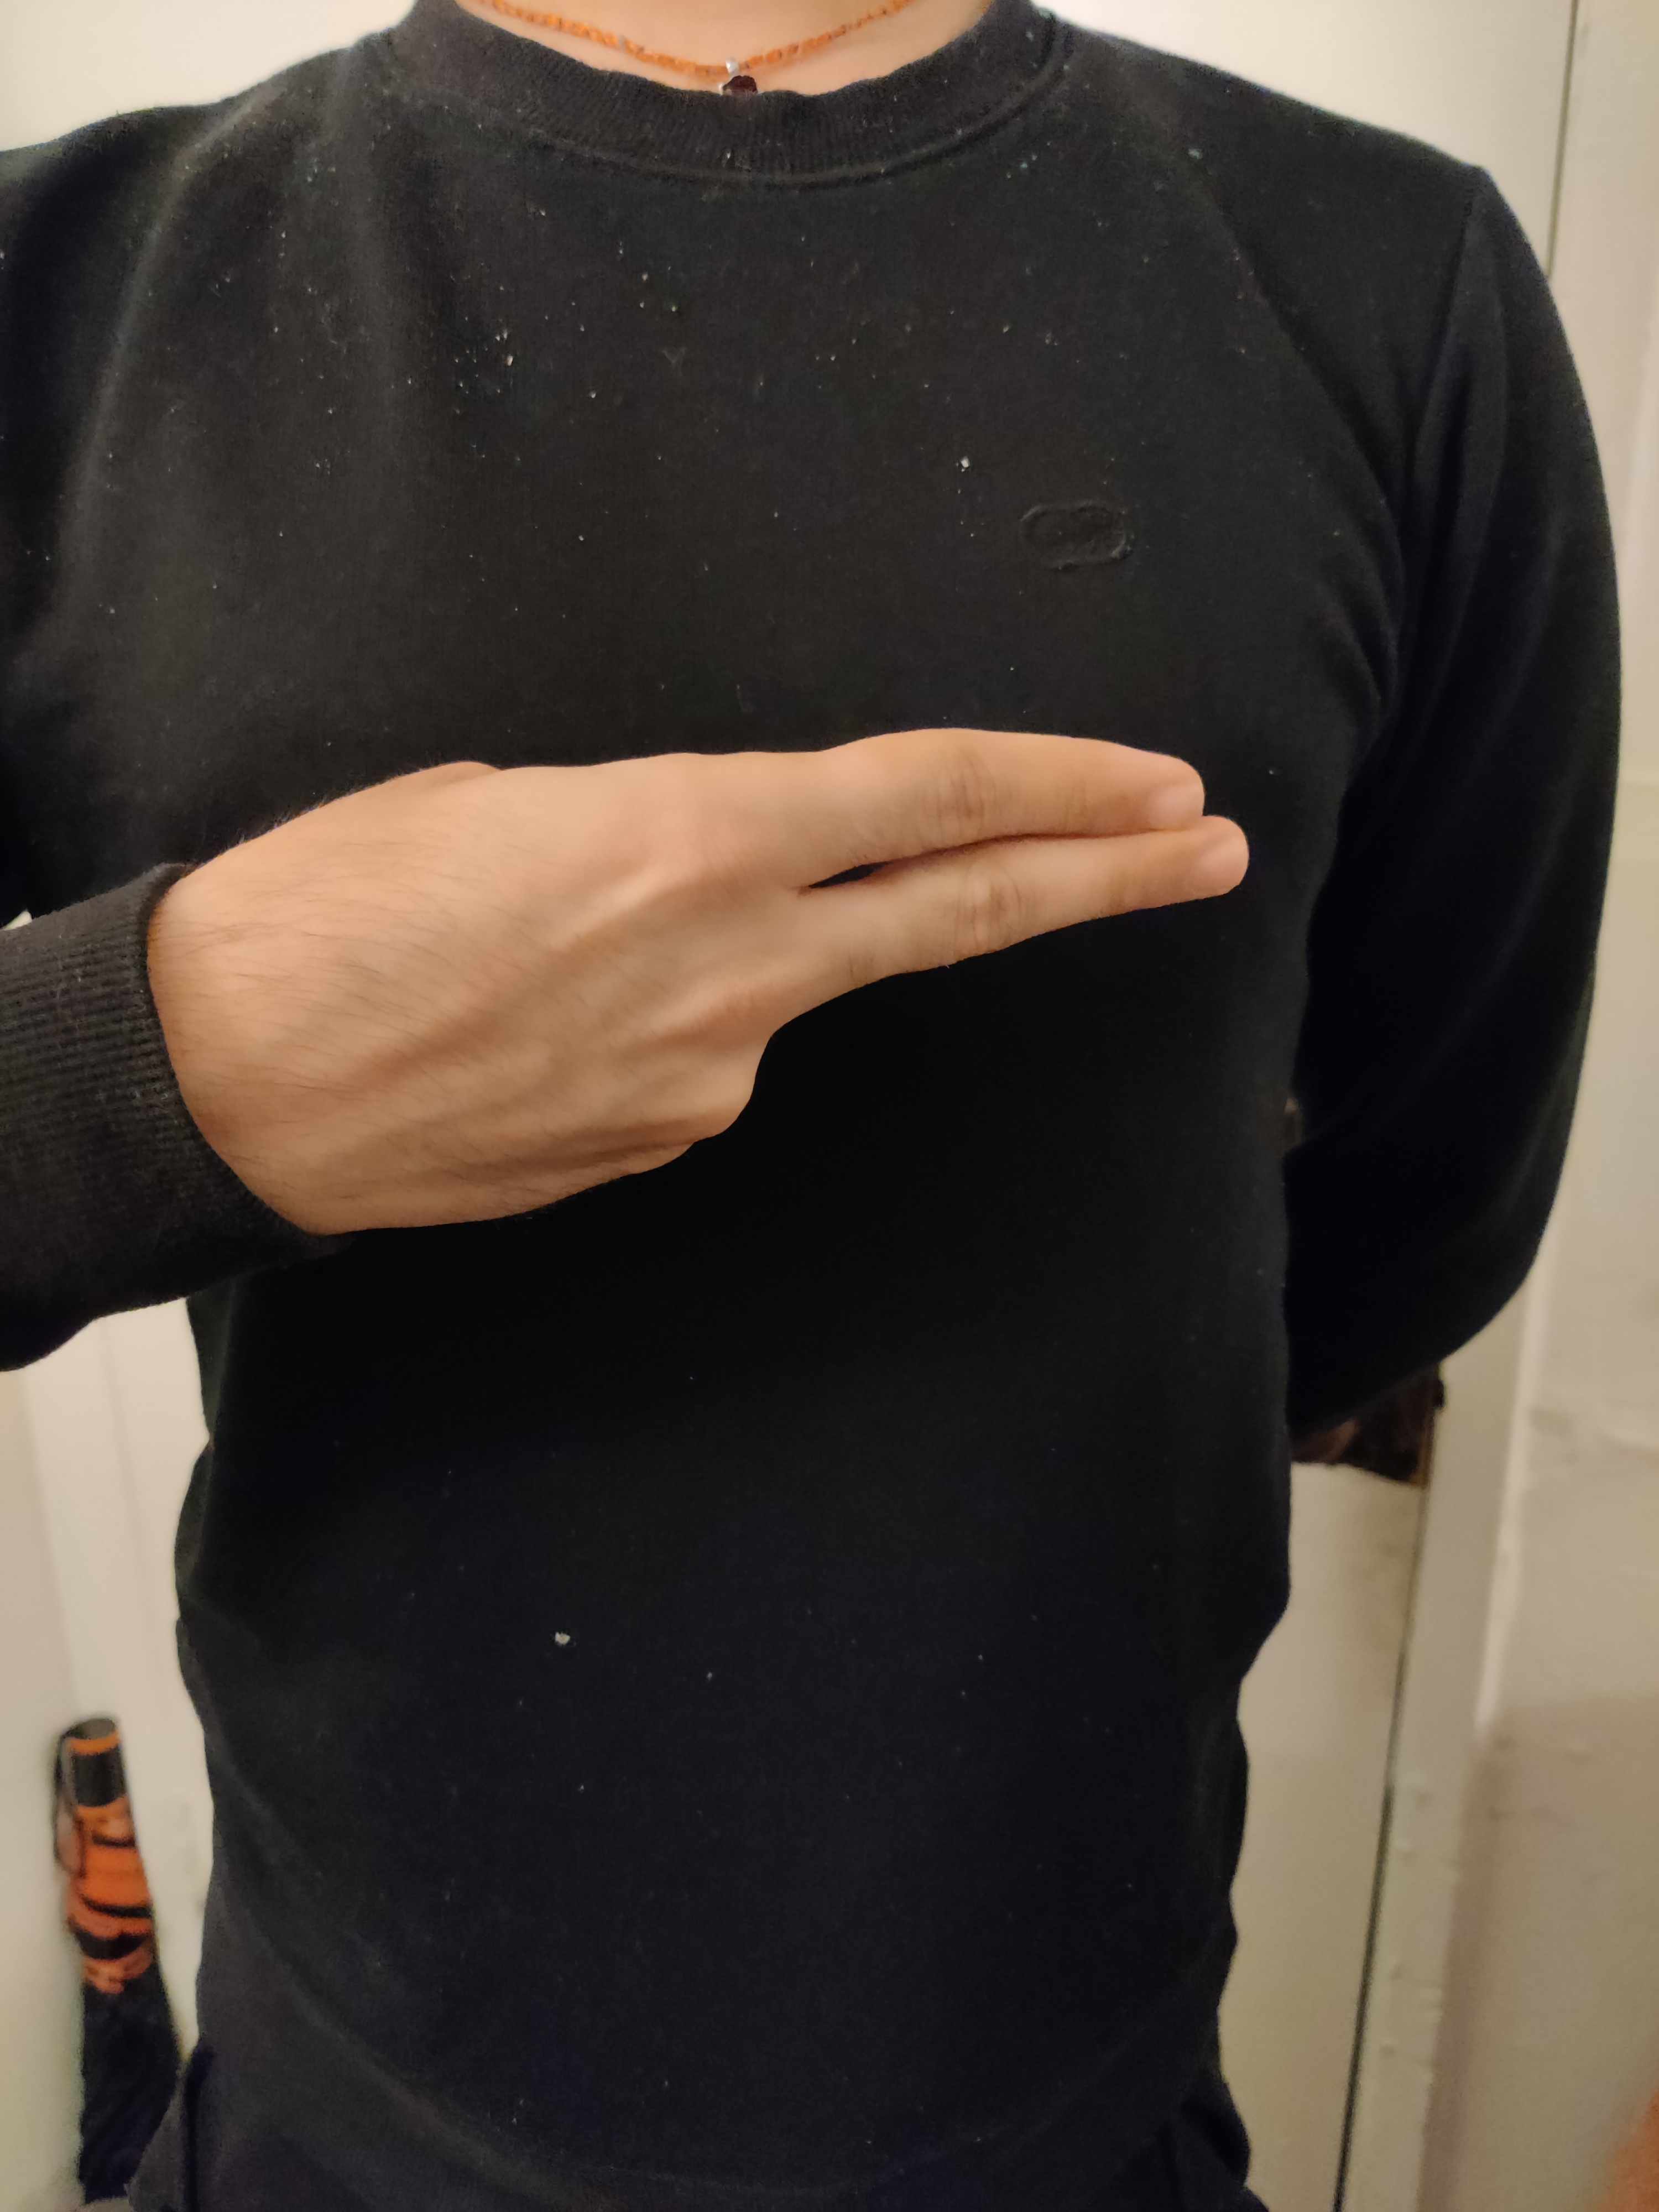left: (3, 517, 1392, 1345)
